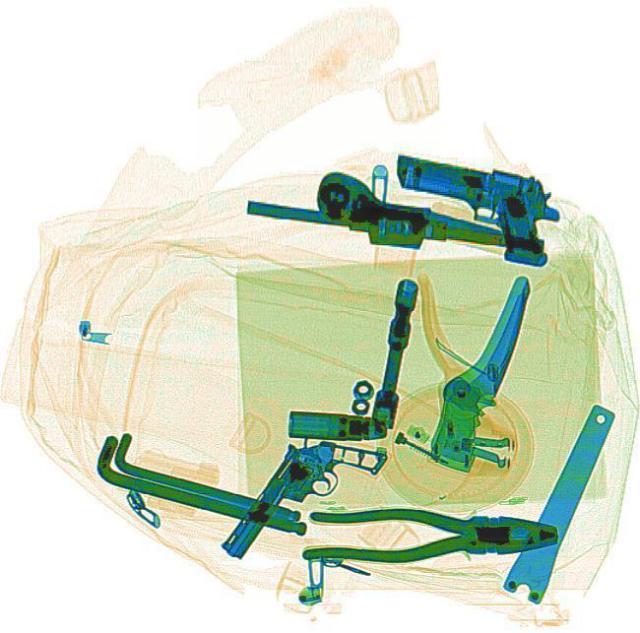Gun: (215, 410, 389, 589), (377, 149, 566, 267)
Pliers: (298, 501, 556, 562)
